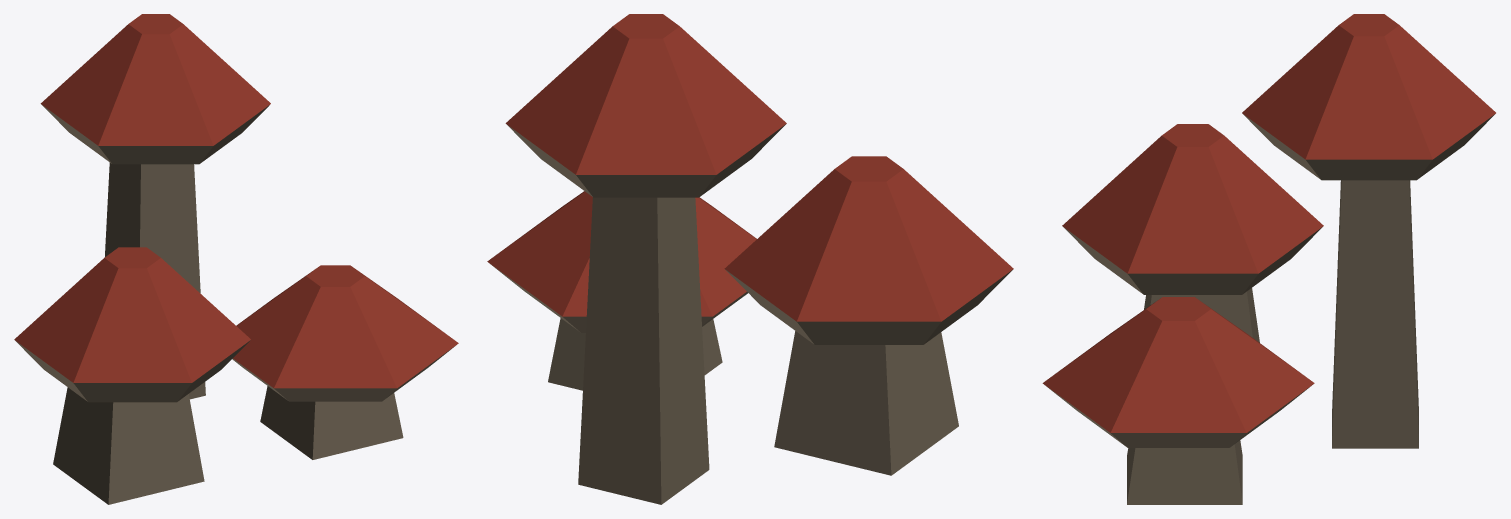
Rendered from mushroom_red_group.glb.
3 views of the same model, side by side, from view 1: azimuth 30°, elevation 25°; view 2: azimuth 150°, elevation 25°; view 3: azimuth 270°, elevation 25° (orthographic). The views are drawn at different scales.
Parts seen in each view (by area): view 1: mushroom_redGroup; view 2: mushroom_redGroup; view 3: mushroom_redGroup.
Boxes of the visible parts, box(x1,y1,x2,y2) form: mushroom_redGroup: box(14, 14, 458, 504); mushroom_redGroup: box(487, 14, 1013, 504); mushroom_redGroup: box(1042, 14, 1495, 504).
Size of the model in its own units: 0.2696 by 0.2505 by 0.2542.
